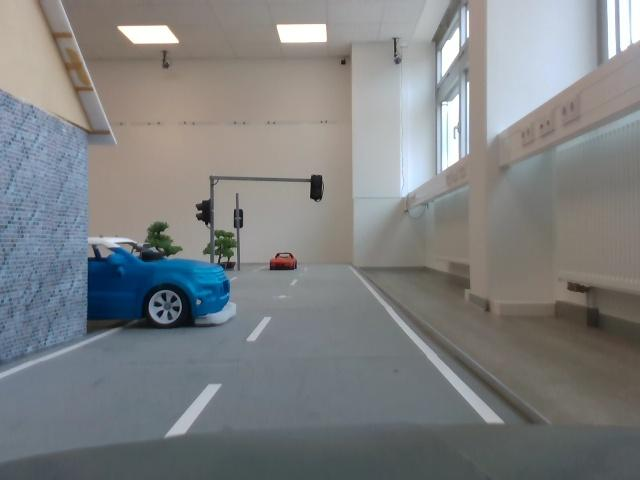car: (87, 237, 240, 330), (272, 253, 300, 271)
potted plant: (143, 217, 184, 260), (206, 232, 238, 268)
traffic light: (308, 172, 327, 205), (196, 199, 212, 227), (232, 206, 245, 230)
